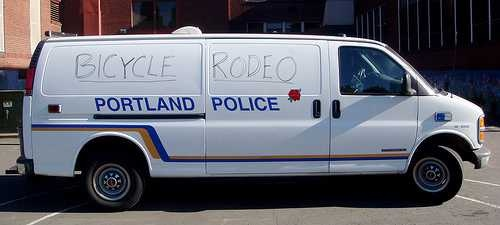Police Van: (15, 23, 496, 213)
